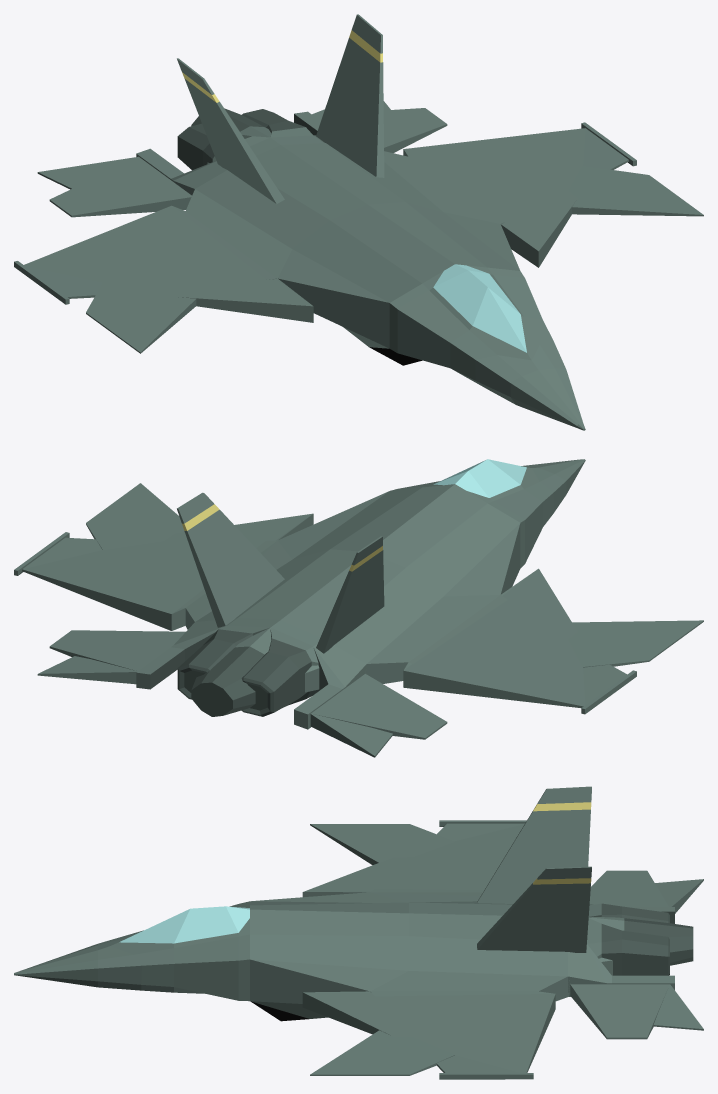
The model's file is modular_jet.fbx.
3 renders of one model, top to bottom at view 1: azimuth 30°, elevation 25°; view 2: azimuth 150°, elevation 25°; view 3: azimuth 270°, elevation 25°, orthographic. The views are drawn at different scales.
Visible parts, largest first — view 1: Body_Mesh_DoubleIntake, MainWing_Mesh_V3, Front_Mesh, TailWing_Mesh, MainWing_Mesh_V1, AOAWing_Mesh_V1, MainWing_Mesh_V2, Thruster_Mesh_Double, Thruster_Mesh_Single, AOAWing_Mesh_V2; view 2: Body_Mesh_DoubleIntake, MainWing_Mesh_V3, TailWing_Mesh, MainWing_Mesh_V1, AOAWing_Mesh_V1, Front_Mesh, Thruster_Mesh_Double, Thruster_Mesh_Single, AOAWing_Mesh_V2, MainWing_Mesh_V2; view 3: Body_Mesh_DoubleIntake, MainWing_Mesh_V3, TailWing_Mesh, Front_Mesh, MainWing_Mesh_V1, AOAWing_Mesh_V1, Thruster_Mesh_Double, MainWing_Mesh_V2, AOAWing_Mesh_V2, Thruster_Mesh_Single.
Part boxes in pixels (x1,y1,x2,y2): Body_Mesh_DoubleIntake: (136, 111, 520, 365); MainWing_Mesh_V3: (24, 128, 585, 322); Front_Mesh: (389, 264, 585, 430); TailWing_Mesh: (177, 14, 384, 203); MainWing_Mesh_V1: (86, 156, 703, 353); AOAWing_Mesh_V1: (49, 108, 447, 217); MainWing_Mesh_V2: (14, 122, 636, 304); Thruster_Mesh_Double: (177, 109, 312, 170); Thruster_Mesh_Single: (191, 108, 323, 163); AOAWing_Mesh_V2: (37, 101, 390, 189); Body_Mesh_DoubleIntake: (136, 484, 520, 729); MainWing_Mesh_V3: (22, 513, 585, 707); TailWing_Mesh: (177, 492, 384, 653); MainWing_Mesh_V1: (86, 483, 703, 667); AOAWing_Mesh_V1: (49, 630, 447, 739); Front_Mesh: (390, 459, 585, 568); Thruster_Mesh_Double: (177, 625, 318, 716); Thruster_Mesh_Single: (191, 618, 366, 716); AOAWing_Mesh_V2: (37, 656, 392, 757); MainWing_Mesh_V2: (14, 532, 636, 714); Body_Mesh_DoubleIntake: (250, 892, 674, 1021); MainWing_Mesh_V3: (302, 824, 555, 1072); TailWing_Mesh: (477, 786, 591, 952); Front_Mesh: (14, 901, 249, 1001); MainWing_Mesh_V1: (310, 824, 538, 1075); AOAWing_Mesh_V1: (570, 870, 669, 1039); Thruster_Mesh_Double: (587, 903, 669, 975); MainWing_Mesh_V2: (370, 820, 537, 1079); AOAWing_Mesh_V2: (653, 879, 703, 1030); Thruster_Mesh_Single: (568, 917, 693, 996).
Bounding box in the file's own units: 305 × 99.99 × 350.
